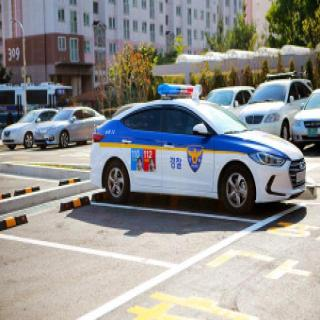Police_car: (90, 81, 308, 218), (26, 82, 74, 114), (0, 83, 26, 122)
